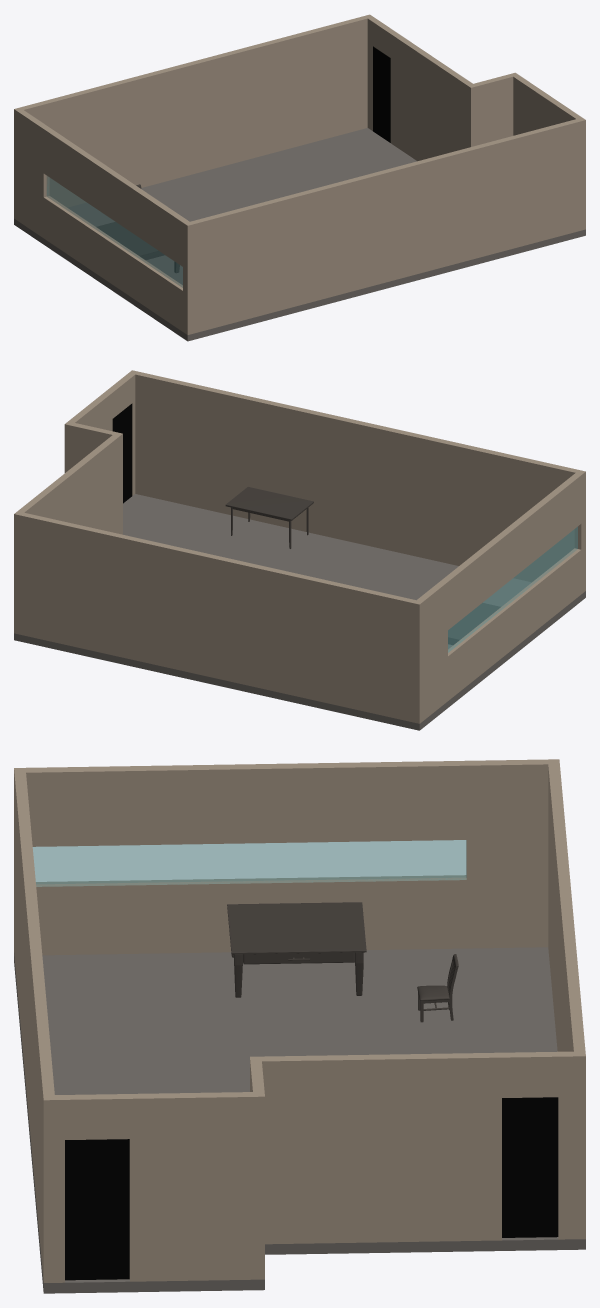
Rendered from room.obj.
3 renders of one model, top to bottom at view 1: azimuth 30°, elevation 25°; view 2: azimuth 150°, elevation 25°; view 3: azimuth 270°, elevation 25°, orthographic. The views are drawn at different scales.
Visible parts, largest first — view 1: submesh_3, submesh_2, submesh_7, submesh_1, submesh_5, submesh_6, submesh, submesh_4, submesh_12, submesh_9; view 2: submesh_2, submesh_3, submesh_7, submesh_1, submesh_5, submesh, submesh_6, submesh_8, submesh_4, submesh_11, submesh_9; view 3: submesh_7, submesh_1, submesh_5, submesh_6, submesh, submesh_3, submesh_11, submesh_2, submesh_9, submesh_12, submesh_4, submesh_10.
Boxes of the visible parts, <box> form: submesh_3: <box>184,119,579,334</box>; submesh_2: <box>20,14,372,207</box>; submesh_7: <box>14,107,189,332</box>; submesh_1: <box>14,128,585,341</box>; submesh_5: <box>367,17,476,161</box>; submesh_6: <box>513,75,585,230</box>; submesh: <box>46,176,182,287</box>; submesh_4: <box>467,72,518,146</box>; submesh_12: <box>373,46,390,142</box>; submesh_9: <box>97,222,179,272</box>; submesh_2: <box>14,511,415,722</box>; submesh_3: <box>135,372,585,593</box>; submesh_7: <box>413,473,582,723</box>; submesh_1: <box>14,494,585,730</box>; submesh_5: <box>18,433,122,534</box>; submesh: <box>448,526,577,652</box>; submesh_6: <box>68,370,138,495</box>; submesh_8: <box>225,487,313,548</box>; submesh_4: <box>64,421,121,472</box>; submesh_11: <box>112,403,132,503</box>; submesh_9: <box>448,603,500,644</box>; submesh_7: <box>25,759,559,955</box>; submesh_1: <box>14,947,585,1293</box>; submesh_5: <box>250,1051,574,1244</box>; submesh_6: <box>43,1092,253,1282</box>; submesh: <box>32,840,466,886</box>; submesh_3: <box>14,768,54,1276</box>; submesh_11: <box>65,1139,129,1280</box>; submesh_2: <box>548,764,585,1239</box>; submesh_9: <box>227,902,366,997</box>; submesh_12: <box>502,1097,558,1237</box>; submesh_4: <box>250,1056,264,1279</box>; submesh_10: <box>417,954,458,1022</box>.
Size of the model in its own units: 11.09 by 2.93 by 7.87.
